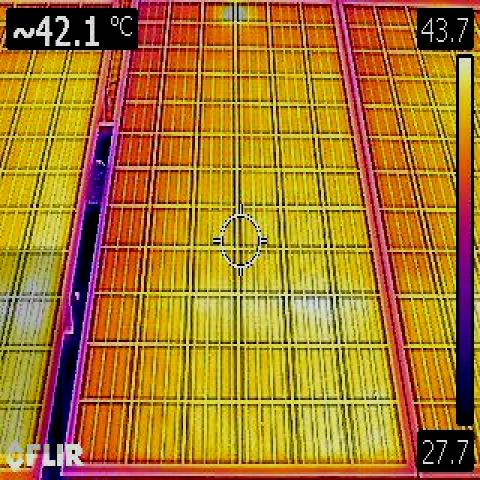fault: (0, 249, 62, 454), (222, 3, 248, 21)
